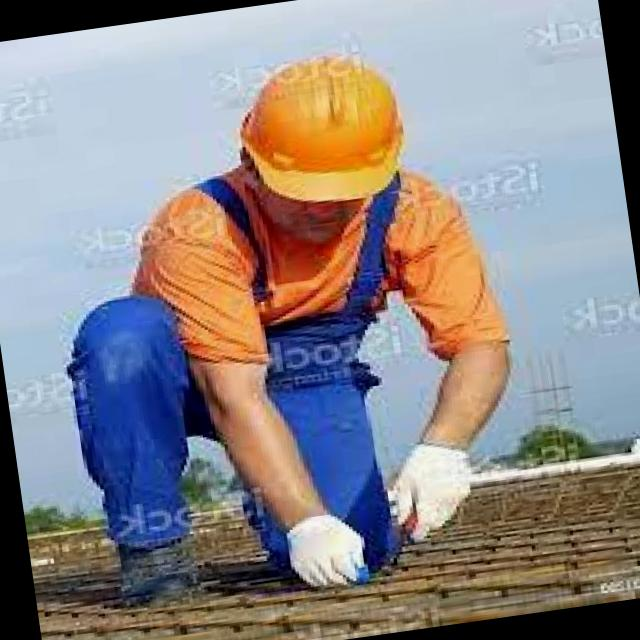boots: (100, 512, 208, 626)
gloves: (386, 419, 486, 549), (271, 490, 371, 596)
helmet: (217, 37, 428, 220)
vest: (153, 164, 430, 385)
